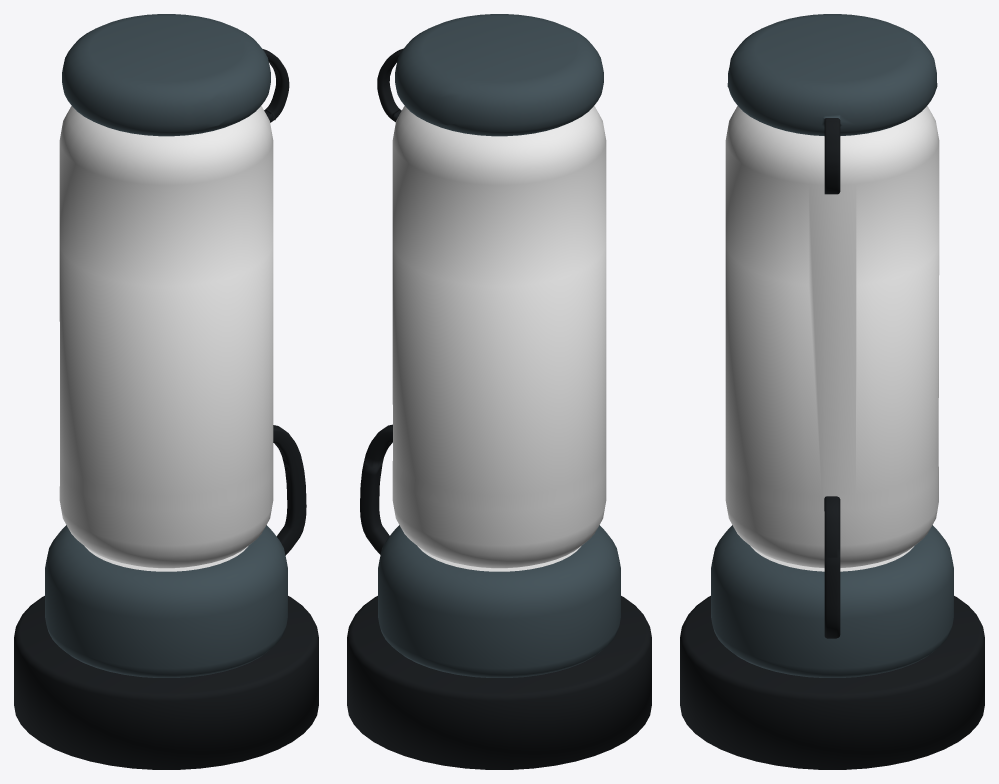
The model's file is big jam1.fbx.
3 views of the same model, side by side, from view 1: azimuth 30°, elevation 25°; view 2: azimuth 150°, elevation 25°; view 3: azimuth 270°, elevation 25° (orthographic).
Parts seen in each view (by area): view 1: big jam; view 2: big jam; view 3: big jam.
Part boxes in pixels (x1,y1,x2,y2): big jam: (14, 14, 318, 769); big jam: (347, 14, 651, 769); big jam: (680, 14, 984, 769).
Bounding box in the file's own units: 66.74 × 156 × 65.56.
